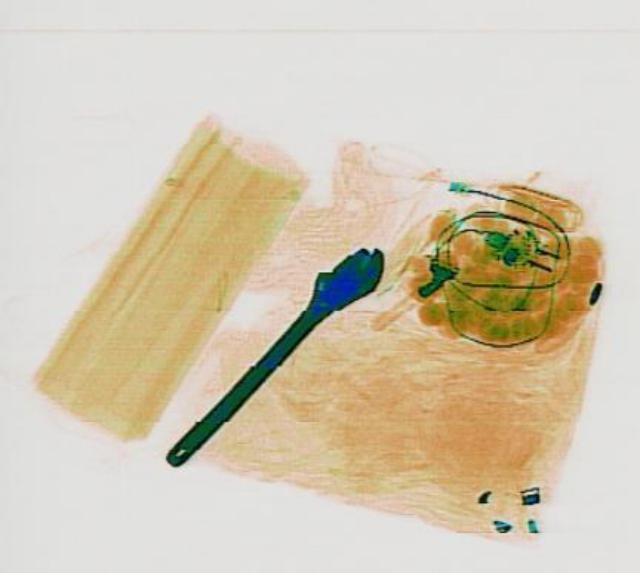Wrench: (144, 231, 398, 478)
